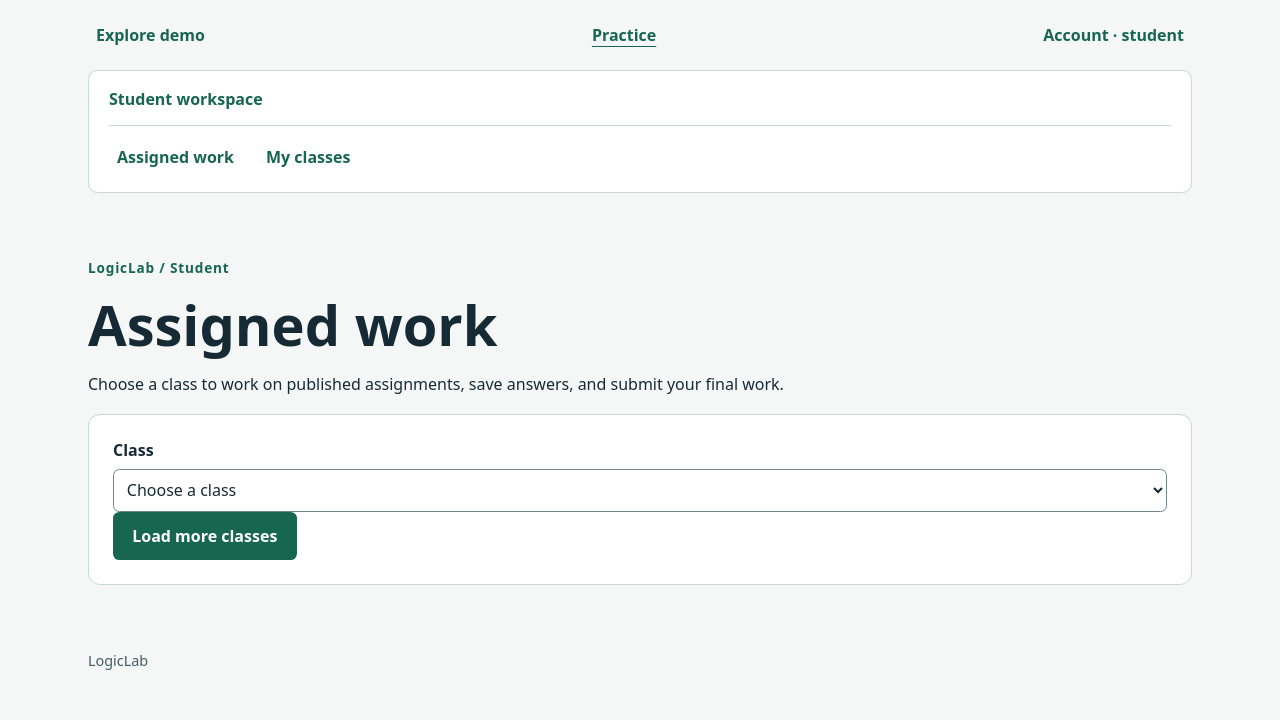
Test case: enrolled classes and assigned work paginate and selecting work loads its saved state
Click the button "Load more classes" at (205, 536), box [113,512,296,560]
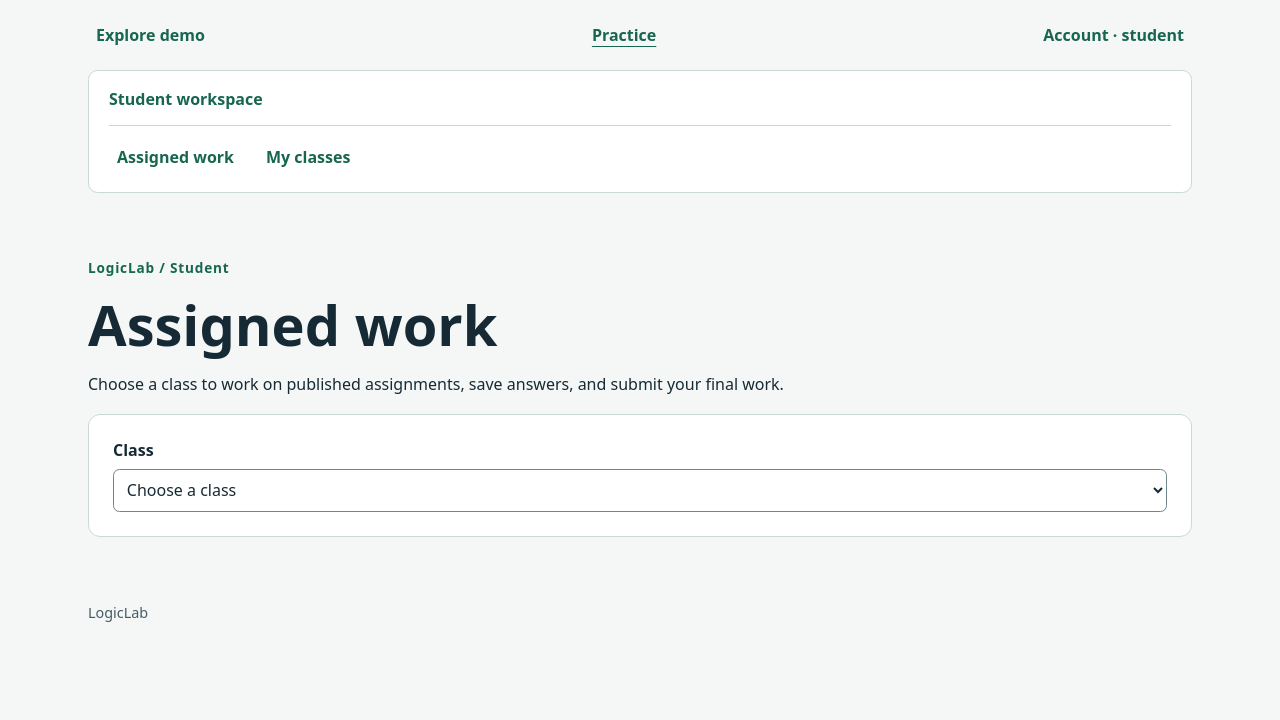
Select "Second enrolled class" in the dropdown labelled "Class" at (640, 490), box [113,468,1167,512]
(page scrolled)
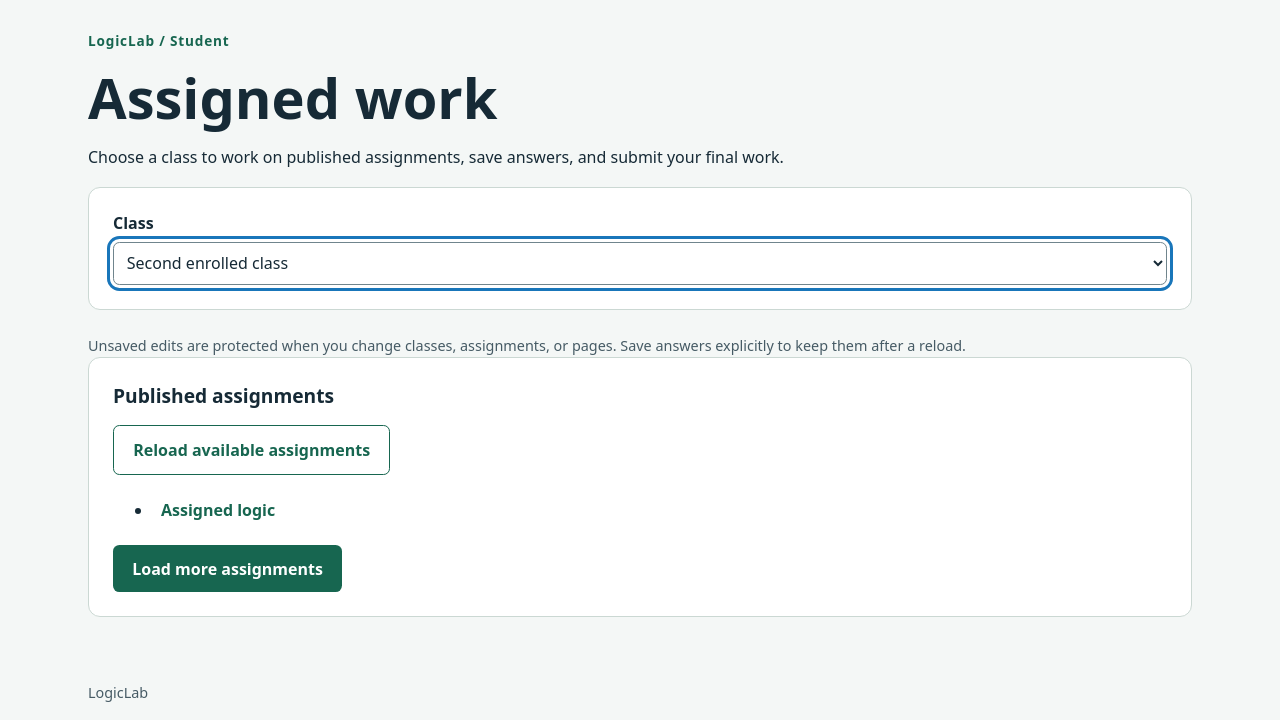
Click the button "Load more assignments" at (228, 569), box [113,545,342,592]
(page scrolled)
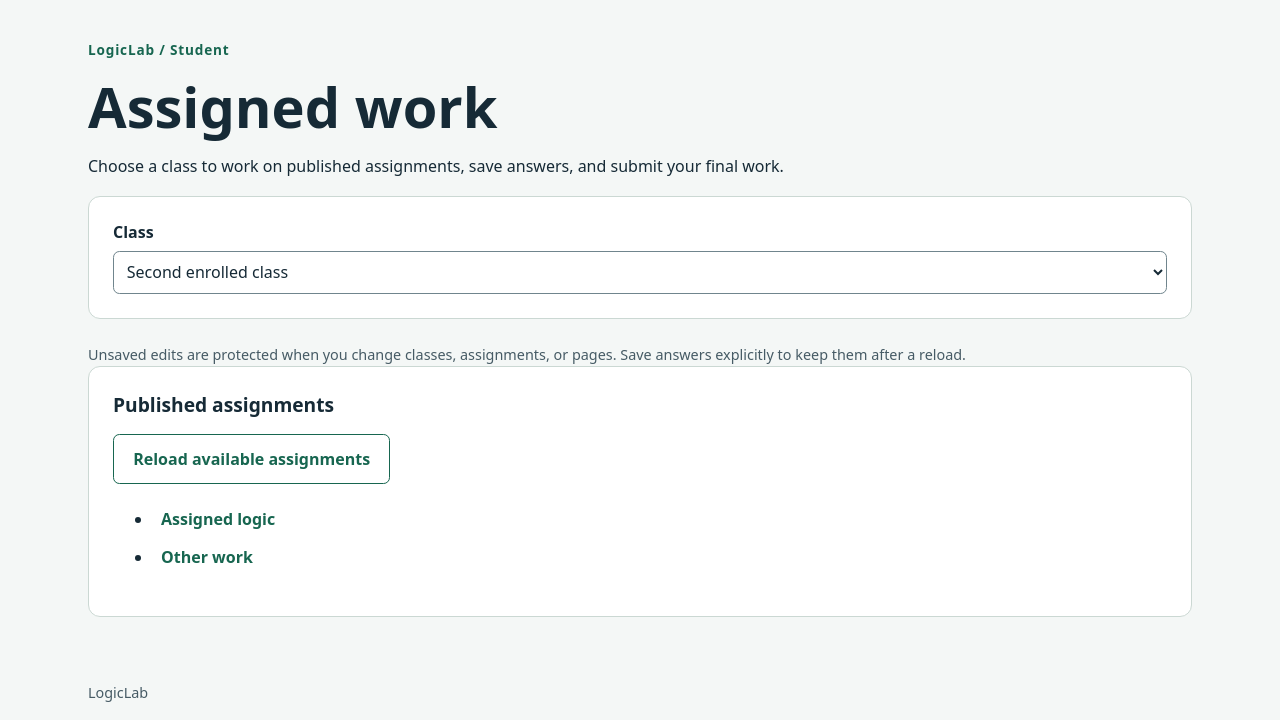
Expected: the button "Other work" is shown, [153,538,261,576]
Expected: the button "Load more assignments" is gone
Click the button "Assigned logic" at (218, 519), box [153,500,283,538]
(page scrolled)
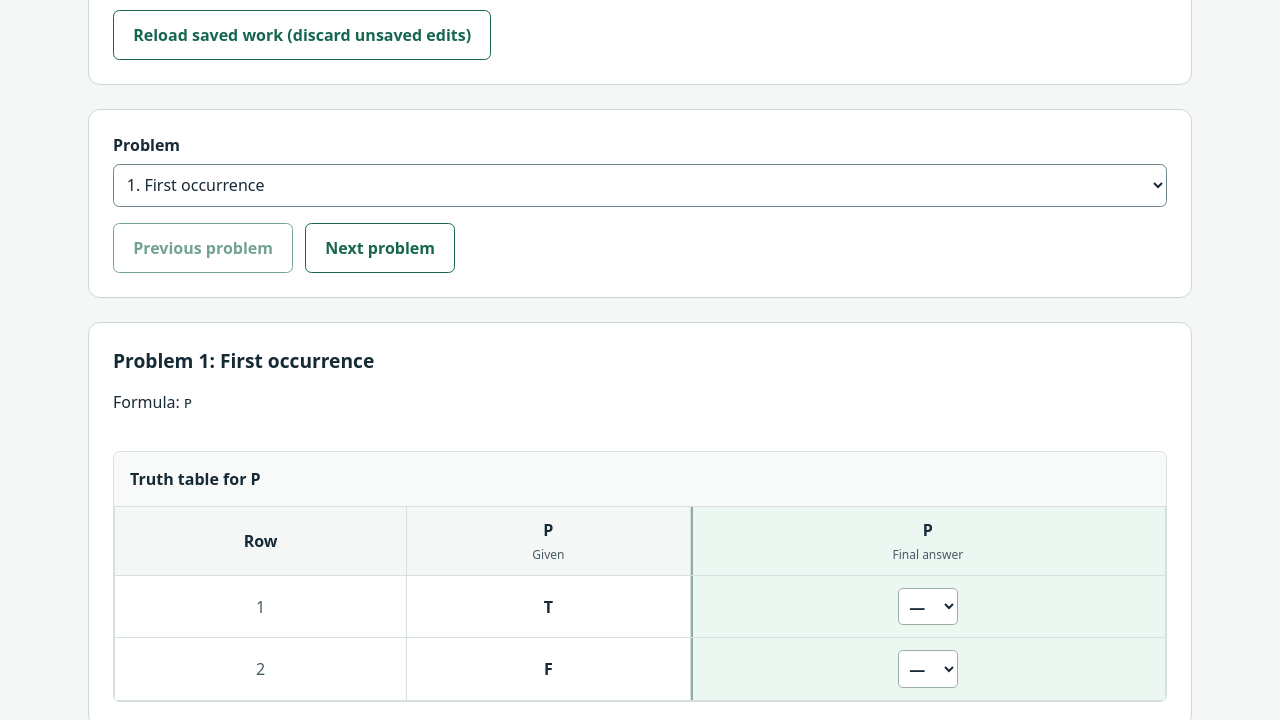
Expected: the heading "Problem 1: First occurrence" is shown, [113,347,374,374]
